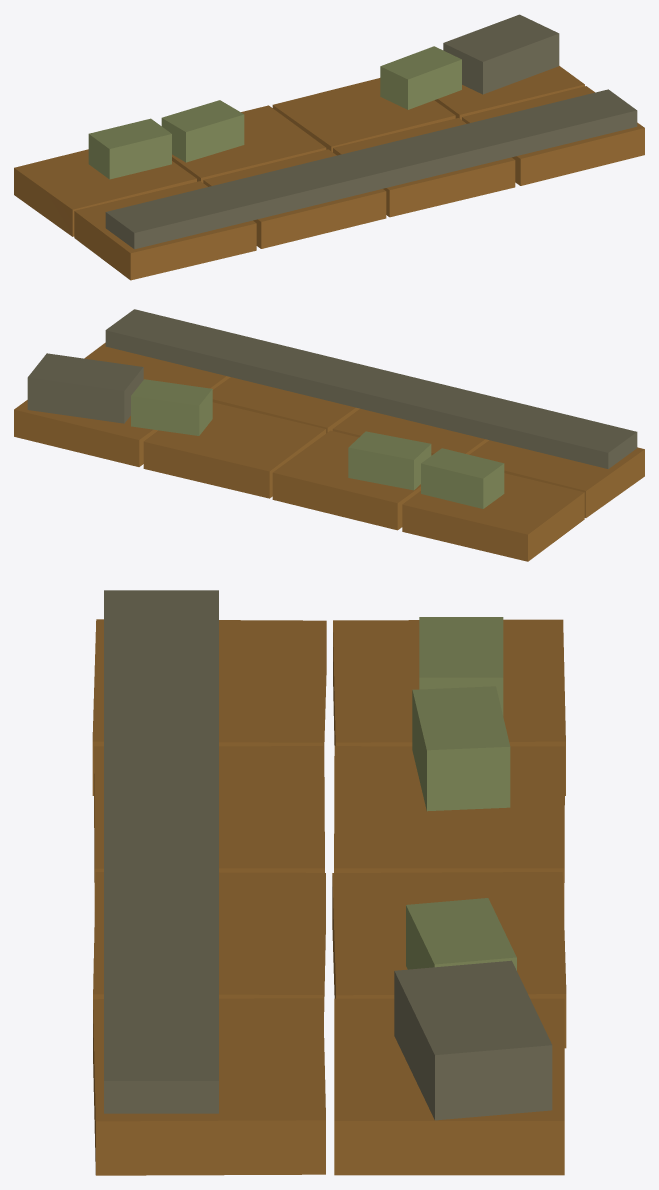
Rendered from SM_Banqueta_v4_LOD1.fbx.
The picture shows the model from 3 angles, top to bottom: view 1: azimuth 30°, elevation 25°; view 2: azimuth 150°, elevation 25°; view 3: azimuth 270°, elevation 25°; orthographic projection. The views are drawn at different scales.
Parts seen in each view (by area): view 1: SM_banqueta_tiro_v4_LOD1; view 2: SM_banqueta_tiro_v4_LOD1; view 3: SM_banqueta_tiro_v4_LOD1.
Part boxes in pixels (<box>): SM_banqueta_tiro_v4_LOD1: <box>14,14,644,280</box>; SM_banqueta_tiro_v4_LOD1: <box>14,309,644,561</box>; SM_banqueta_tiro_v4_LOD1: <box>92,590,566,1175</box>.
Size of the model in its own units: 4.95 by 0.55 by 1.98.
